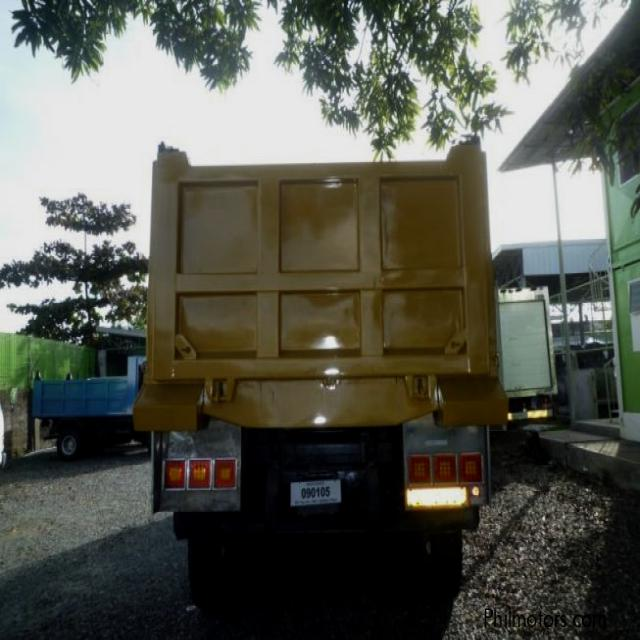truck: (134, 133, 509, 599)
